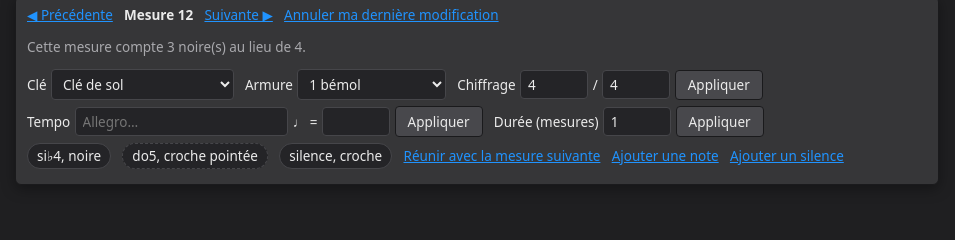
it: MeasureEditor › explique pourquoi deux mesures ne se réunissent pas
Expected: the text "Mesure 12" is shown, [124,6,193,24]
Click the button "Réunir avec la mesure suivante": (502, 156) [404,147,600,165]
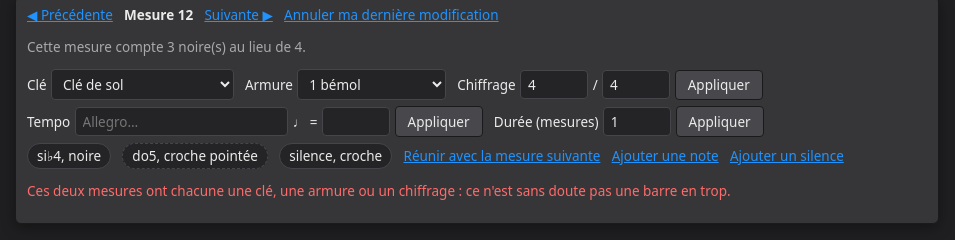
Now the text "ce n'est sans doute pas une barre en trop" is shown, box [27,182,731,200]
